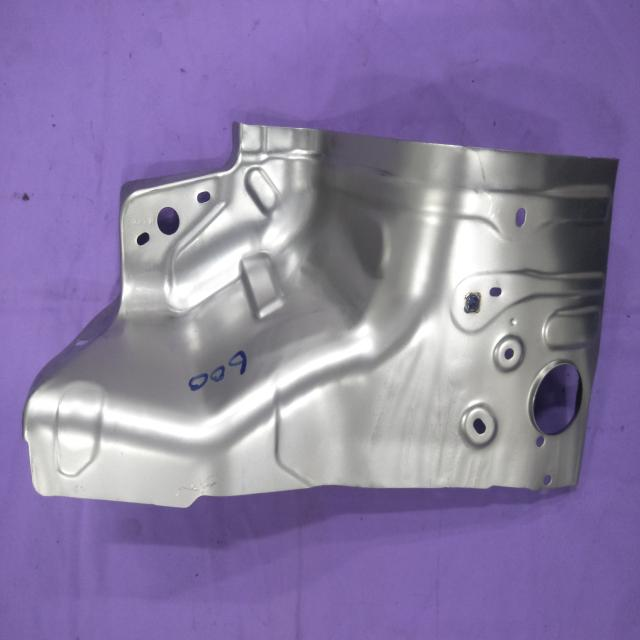Healthy: (22, 118, 619, 508)
